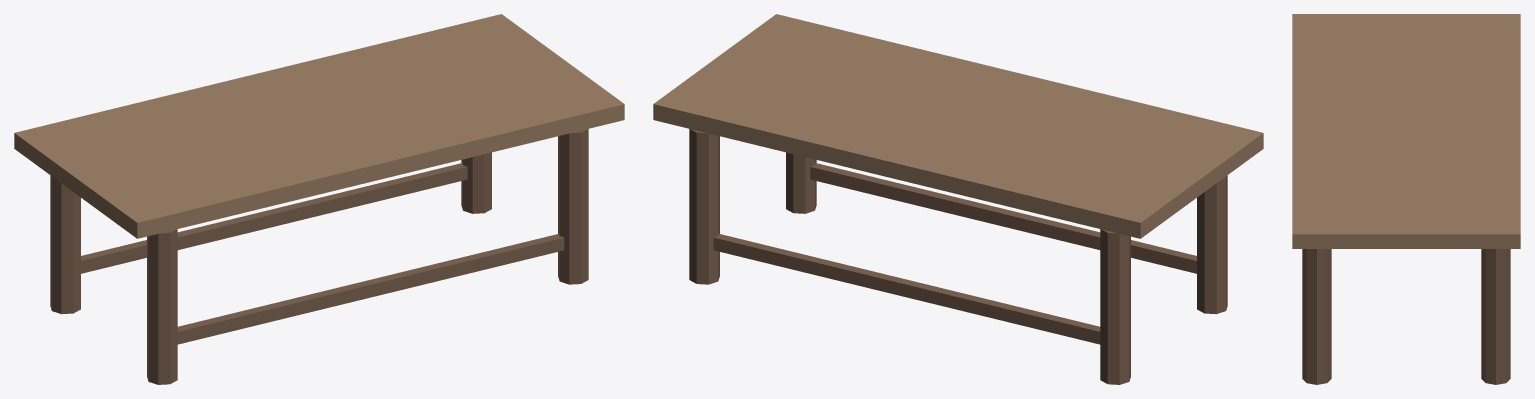
File: haunted_diningtable.glb
The picture shows the model from 3 angles, left to right: view 1: azimuth 30°, elevation 25°; view 2: azimuth 150°, elevation 25°; view 3: azimuth 270°, elevation 25°; orthographic projection. The views are drawn at different scales.
Visible parts, largest first — view 1: Haunted_DiningTable; view 2: Haunted_DiningTable; view 3: Haunted_DiningTable.
Boxes of the visible parts, x1,y1,x2,y2 form: Haunted_DiningTable: [14, 14, 624, 384]; Haunted_DiningTable: [653, 14, 1263, 384]; Haunted_DiningTable: [1292, 14, 1520, 384].
Bounding box in the file's own units: 3.2 × 1.1 × 1.4.
